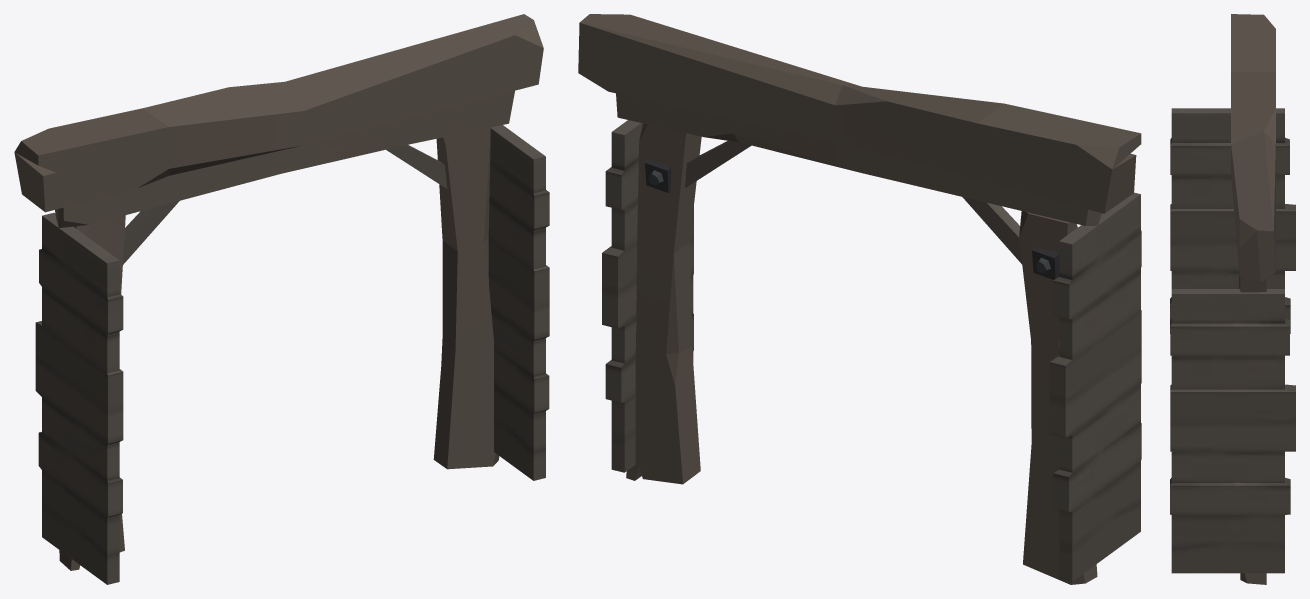
The model's file is SM_Env_Mine_Entrance_01.fbx.
3 renders of one model, left to right at view 1: azimuth 30°, elevation 25°; view 2: azimuth 150°, elevation 25°; view 3: azimuth 270°, elevation 25°, orthographic. The views are drawn at different scales.
Parts seen in each view (by area): view 1: SM_Env_Mine_Entrance_01; view 2: SM_Env_Mine_Entrance_01; view 3: SM_Env_Mine_Entrance_01.
Boxes of the visible parts, box(x1,y1,x2,y2) form: SM_Env_Mine_Entrance_01: box(14, 14, 549, 584); SM_Env_Mine_Entrance_01: box(578, 14, 1141, 584); SM_Env_Mine_Entrance_01: box(1170, 14, 1295, 584).
Bounding box in the file's own units: 4.04 × 3.24 × 0.9918.
